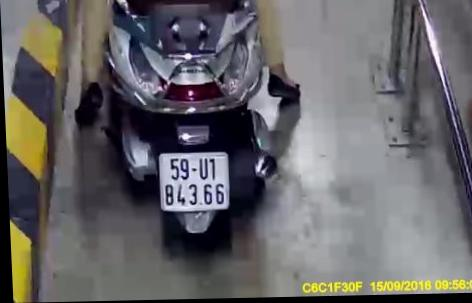License_Plate: (154, 147, 238, 219)
